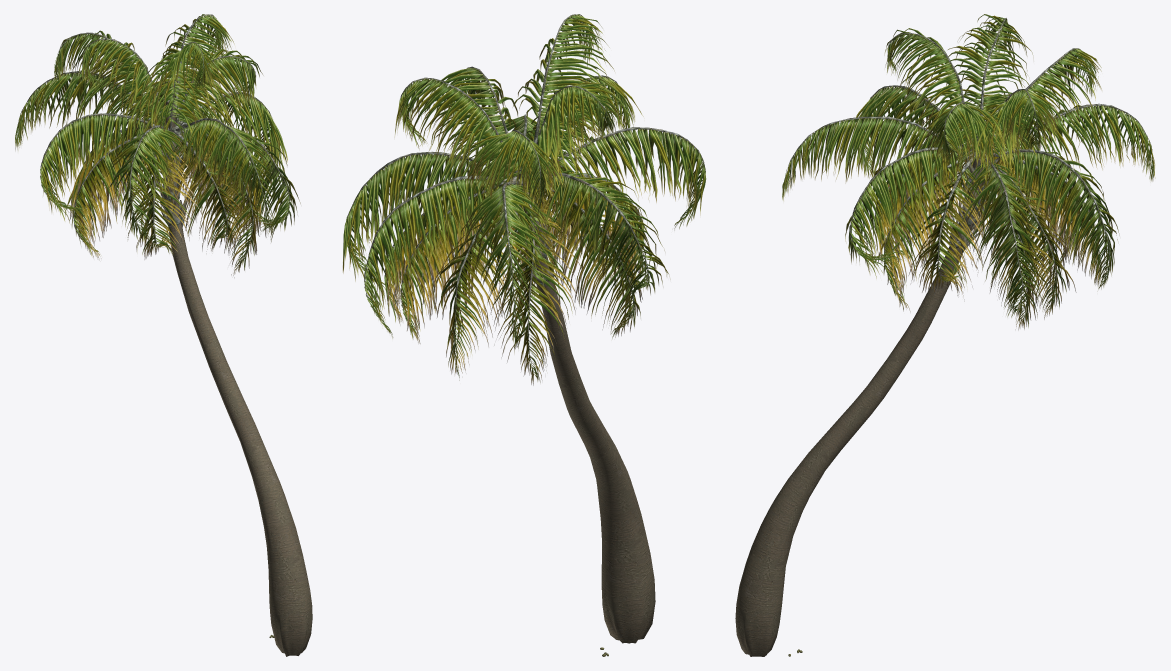
Rendered from palm_coconut.glb.
The picture shows the model from 3 angles, left to right: view 1: azimuth 30°, elevation 25°; view 2: azimuth 150°, elevation 25°; view 3: azimuth 270°, elevation 25°; orthographic projection. The views are drawn at different scales.
Visible parts, largest first — view 1: CoconutPalm_PLA; view 2: CoconutPalm_PLA; view 3: CoconutPalm_PLA.
Part boxes in pixels (x1,y1,x2,y2): CoconutPalm_PLA: (15, 14, 312, 656); CoconutPalm_PLA: (342, 14, 706, 656); CoconutPalm_PLA: (735, 14, 1155, 656).
Bounding box in the file's own units: 5.62 × 12.19 × 7.64.
9 materials, 9 textured.
